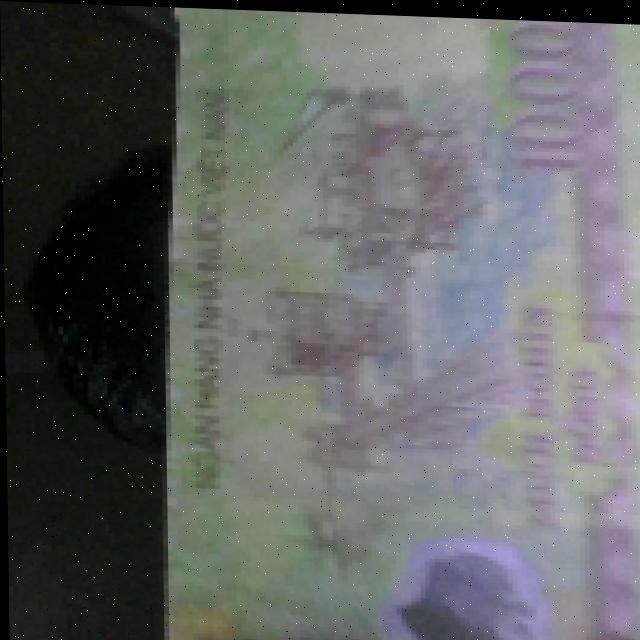10 000 VND: (145, 4, 640, 640)
